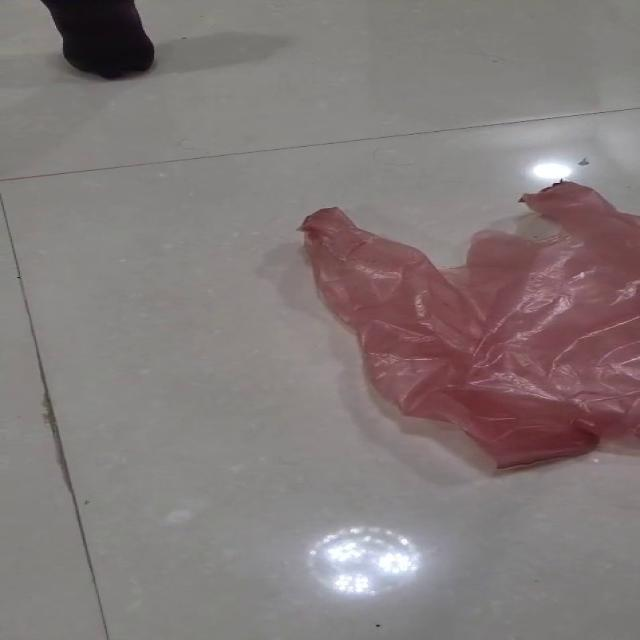plastic: (294, 178, 638, 470)
